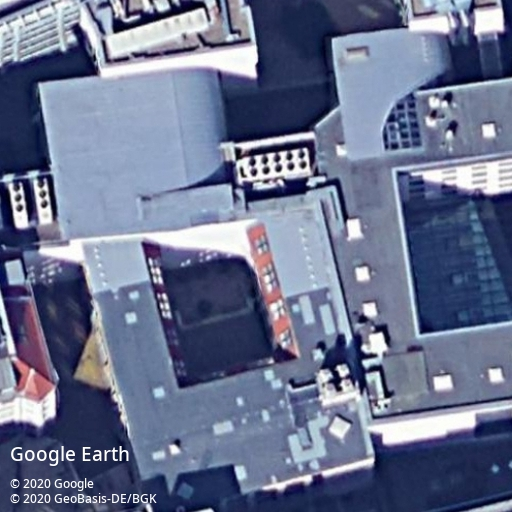Chiller: (245, 147, 312, 181), (33, 177, 54, 227), (8, 181, 29, 228), (319, 368, 333, 382), (337, 363, 350, 377), (323, 382, 336, 396), (341, 378, 353, 390)
